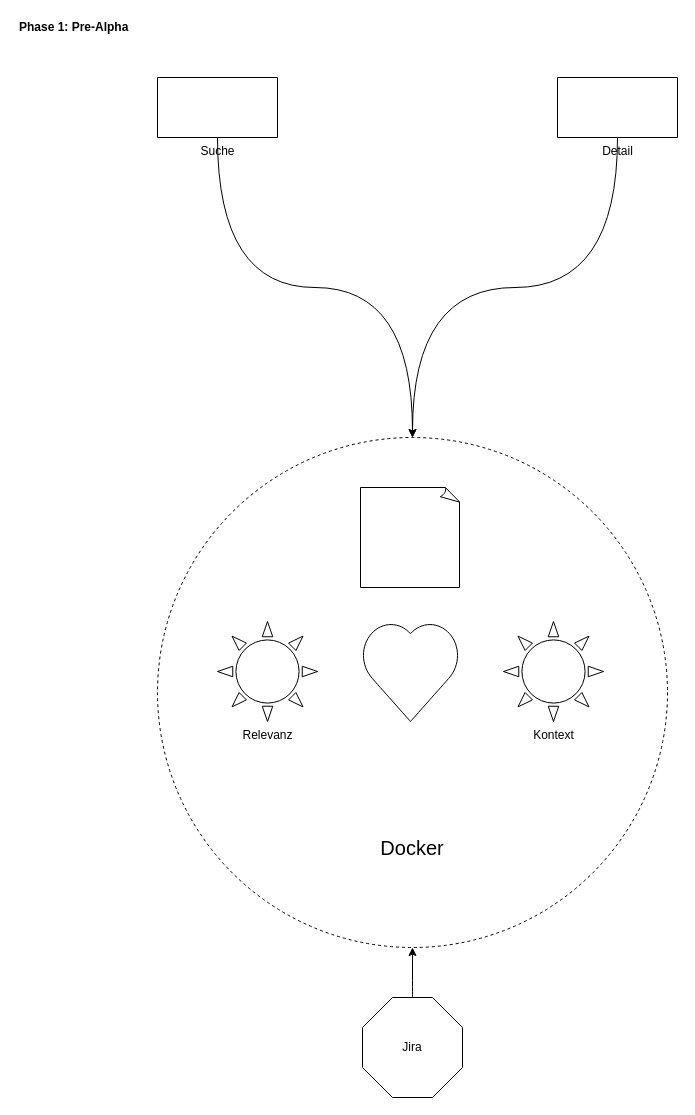
This 695x1115 diagram has some shape labels left out. Each missing label, with the centre of its shape:
Fakten: pixel 410 537
ML Core: pixel 410 671
